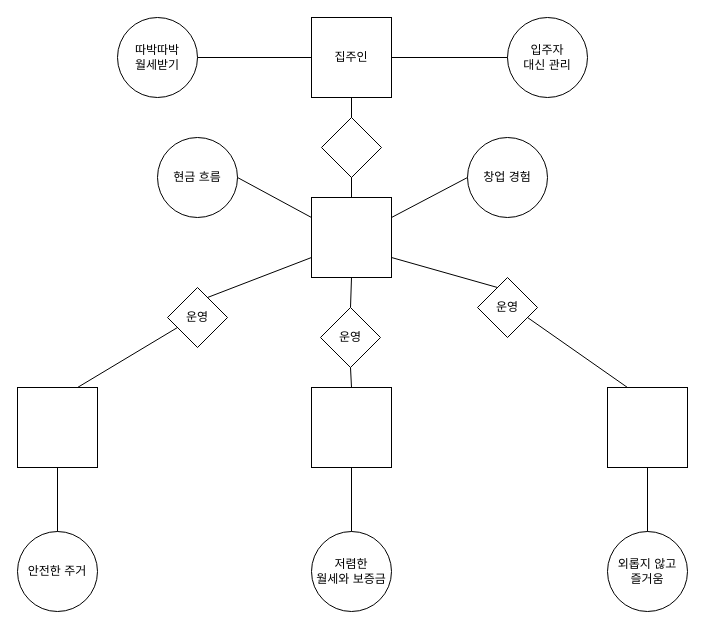
Some shapes in this 705 by 629 pixel diagram are drawn without their labels. Each missing label, with the centre of its shape:
"운영자" goes at point 351,237.
"임대" goes at point 351,147.
"입주자A" goes at point 57,427.
"입주자B" goes at point 351,427.
"입주자C" goes at point 647,427.
